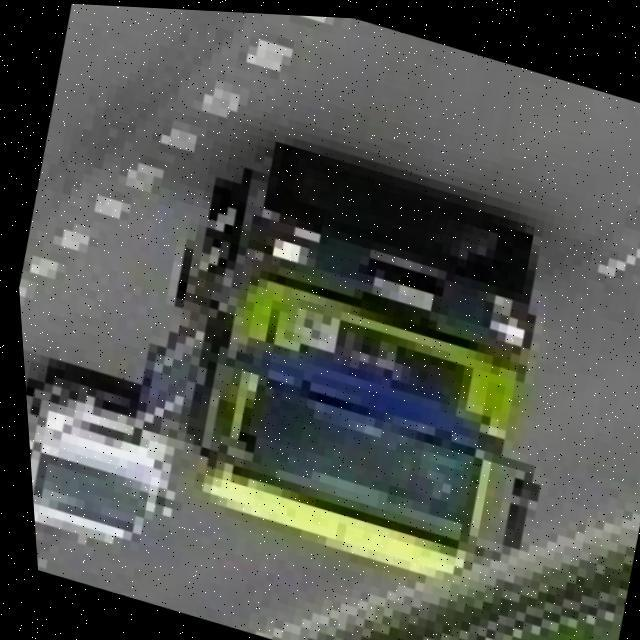truck: (109, 139, 597, 616)
